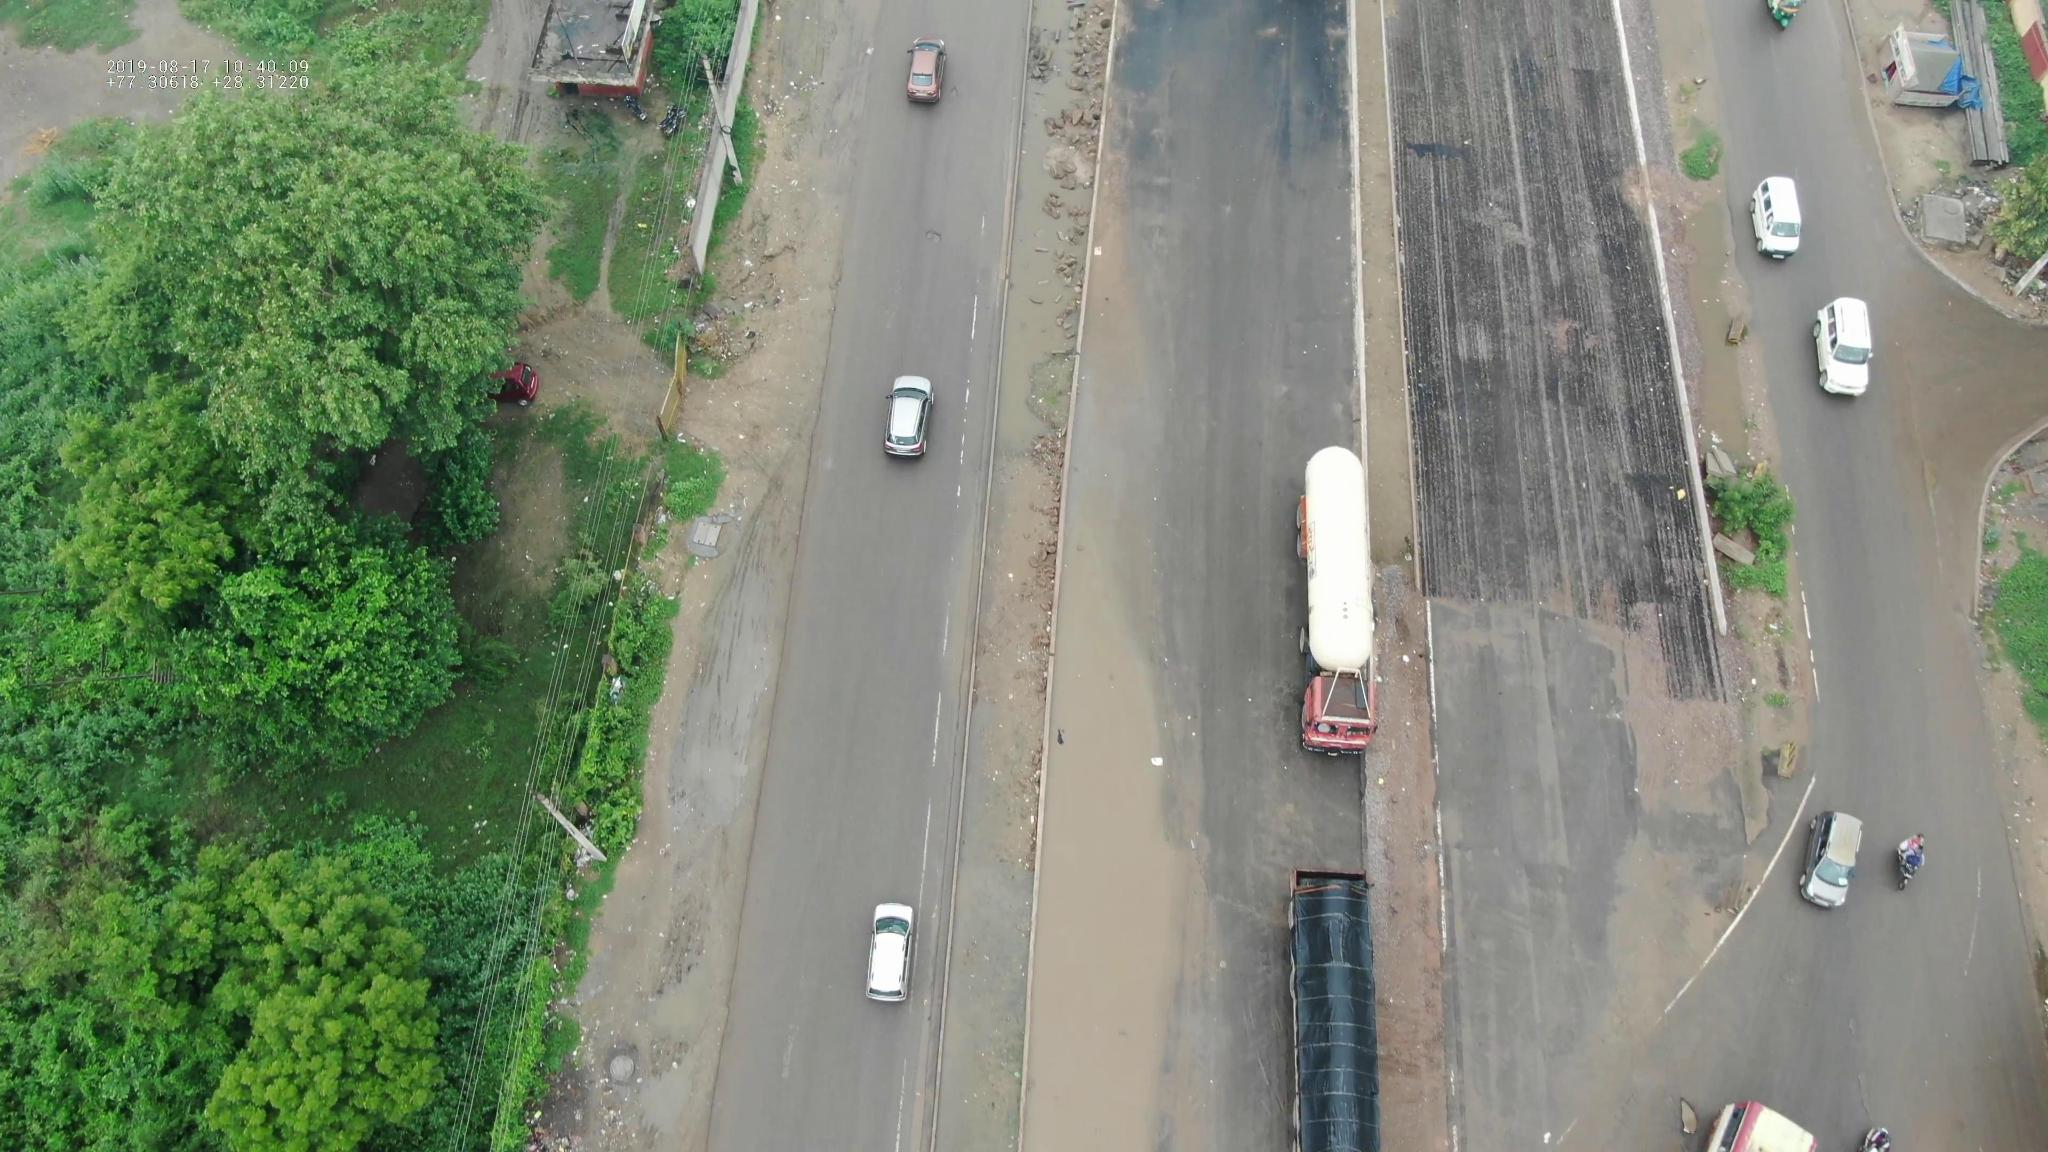Potholes: (580, 1038, 655, 1089)
Waterlogging: (1016, 557, 1194, 1137)
